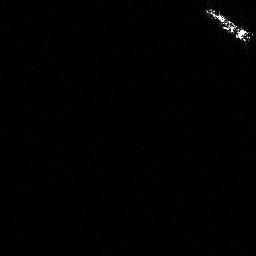ship: (203, 5, 253, 43)
